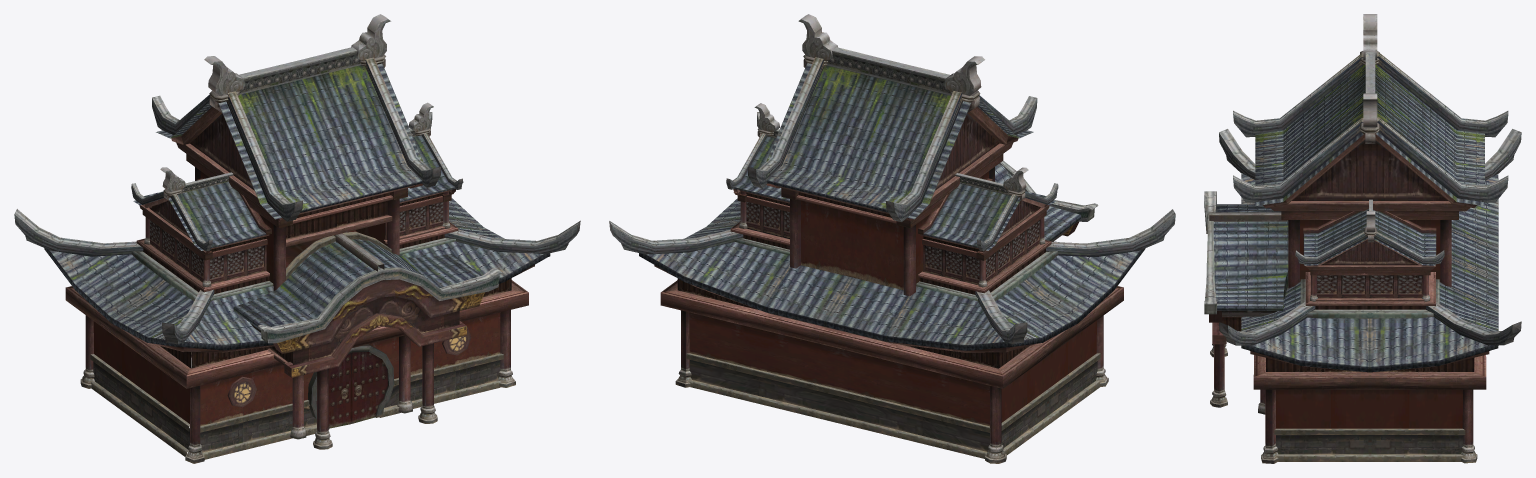
The model's file is xinshoubujian15.FBX.
3 views of the same model, side by side, from view 1: azimuth 30°, elevation 25°; view 2: azimuth 150°, elevation 25°; view 3: azimuth 270°, elevation 25° (orthographic). The views are drawn at different scales.
Parts seen in each view (by area): view 1: Mesh_0028; view 2: Mesh_0028; view 3: Mesh_0028.
Part boxes in pixels (box(x1,y1,x2,y2)): Mesh_0028: box(14, 14, 580, 463); Mesh_0028: box(609, 14, 1175, 463); Mesh_0028: box(1204, 14, 1521, 463).
Bounding box in the file's own units: 4.31 × 3.41 × 2.94.
1 material, 1 textured.
